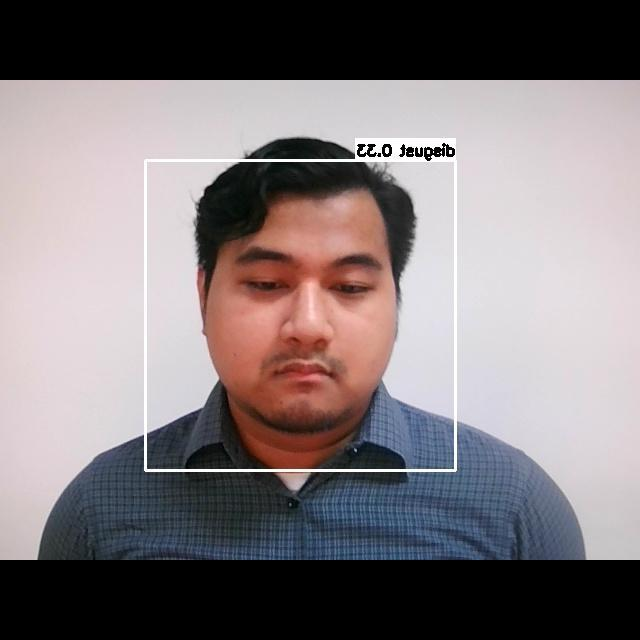Sad: (211, 222, 411, 424)
